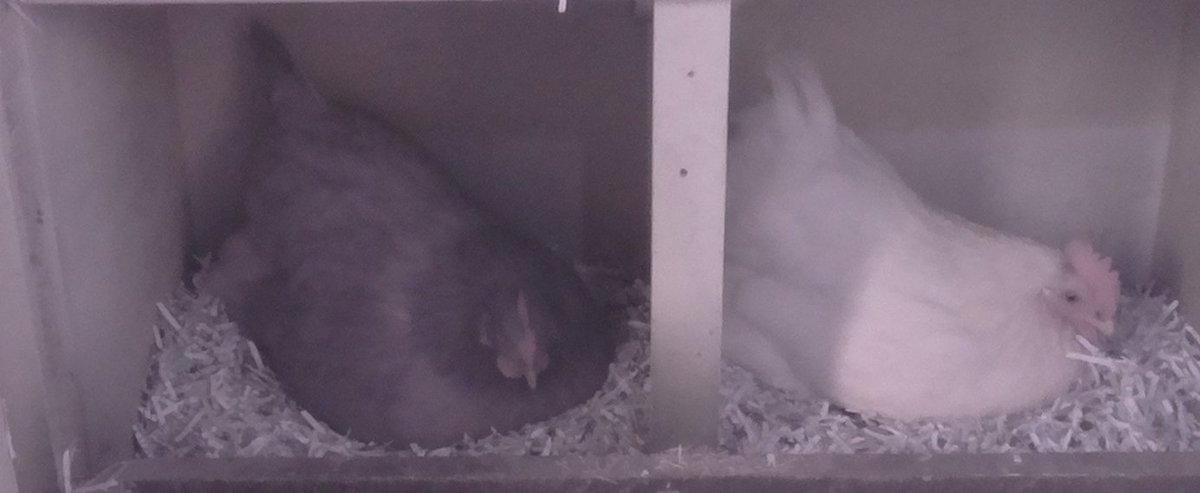hen: (208, 61, 624, 460), (731, 80, 1133, 431)
